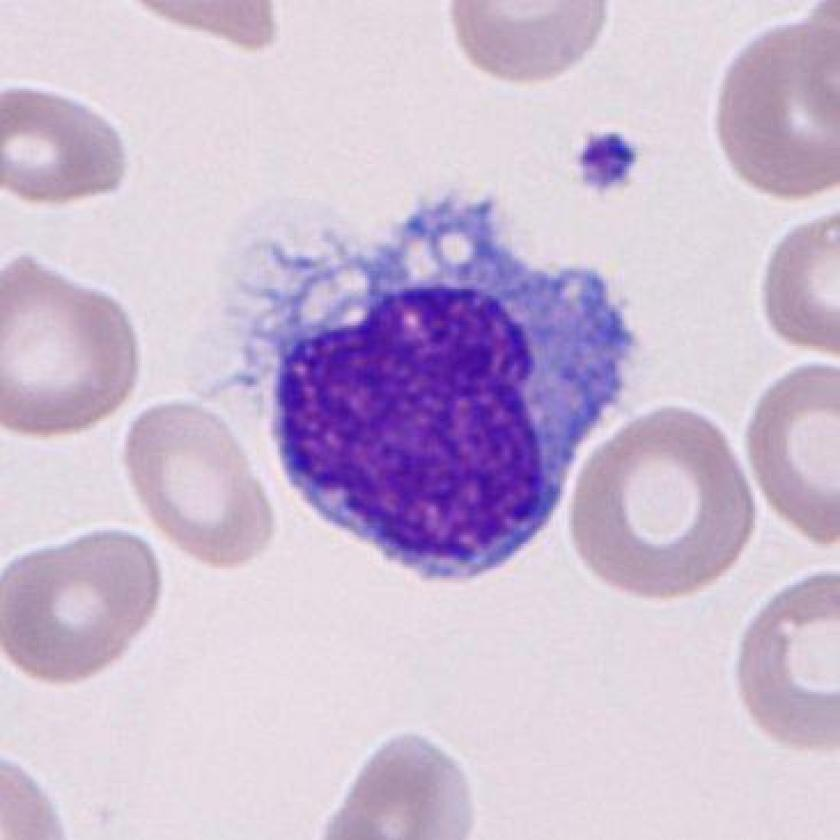monocyte: (212, 170, 648, 607)
